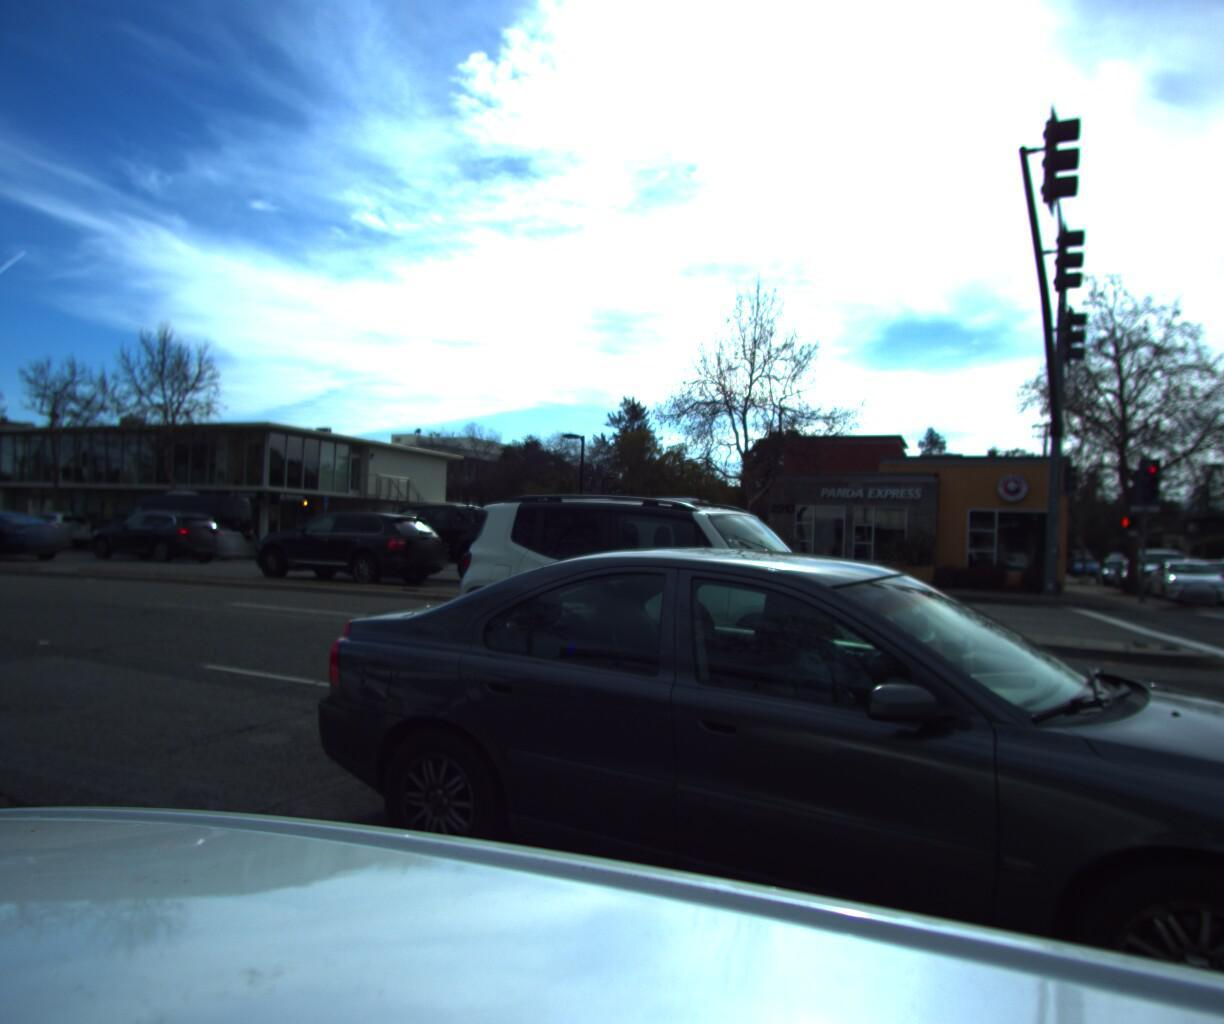car: (316, 527, 1224, 1024), (449, 485, 967, 760), (492, 489, 726, 587), (336, 498, 556, 584), (245, 507, 463, 590), (102, 484, 259, 555), (81, 504, 232, 559), (127, 514, 251, 557), (1117, 540, 1201, 599), (1140, 551, 1224, 608), (0, 504, 99, 549), (0, 502, 67, 558), (1087, 548, 1144, 580), (1184, 549, 1224, 587), (1064, 548, 1100, 570)
